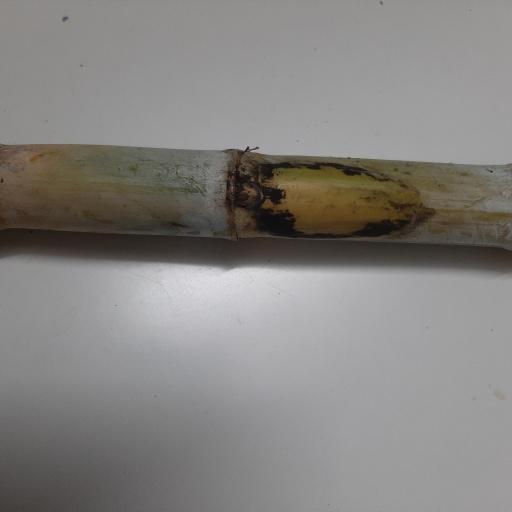Bud: (235, 181, 266, 208)
